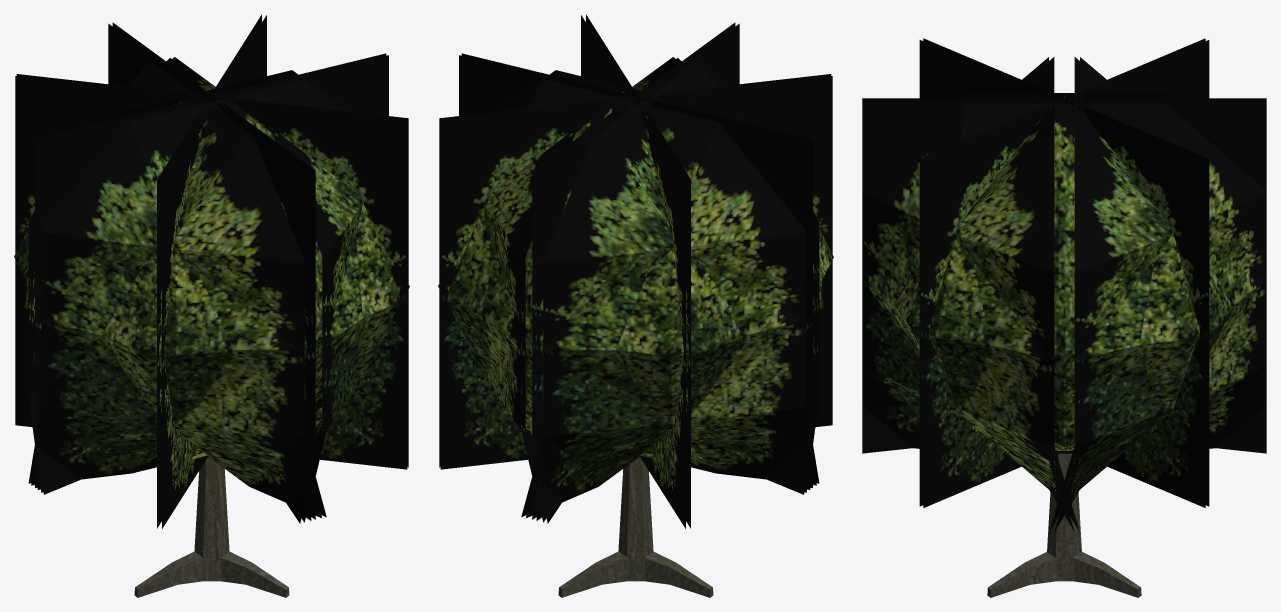
The model's file is tree06.gltf.
The picture shows the model from 3 angles, left to right: view 1: azimuth 30°, elevation 25°; view 2: azimuth 150°, elevation 25°; view 3: azimuth 270°, elevation 25°; orthographic projection.
Parts seen in each view (by area): view 1: tree06_top, tree06; view 2: tree06_top, tree06; view 3: tree06_top, tree06.
Part boxes in pixels (x1,y1,x2,y2): tree06_top: (14, 14, 409, 528); tree06: (134, 457, 289, 597); tree06_top: (438, 14, 833, 528); tree06: (558, 457, 713, 597); tree06_top: (862, 38, 1266, 531); tree06: (987, 453, 1141, 597).
Bounding box in the file's own units: 3.16 × 4.13 × 3.16.
1 material, 1 textured.
